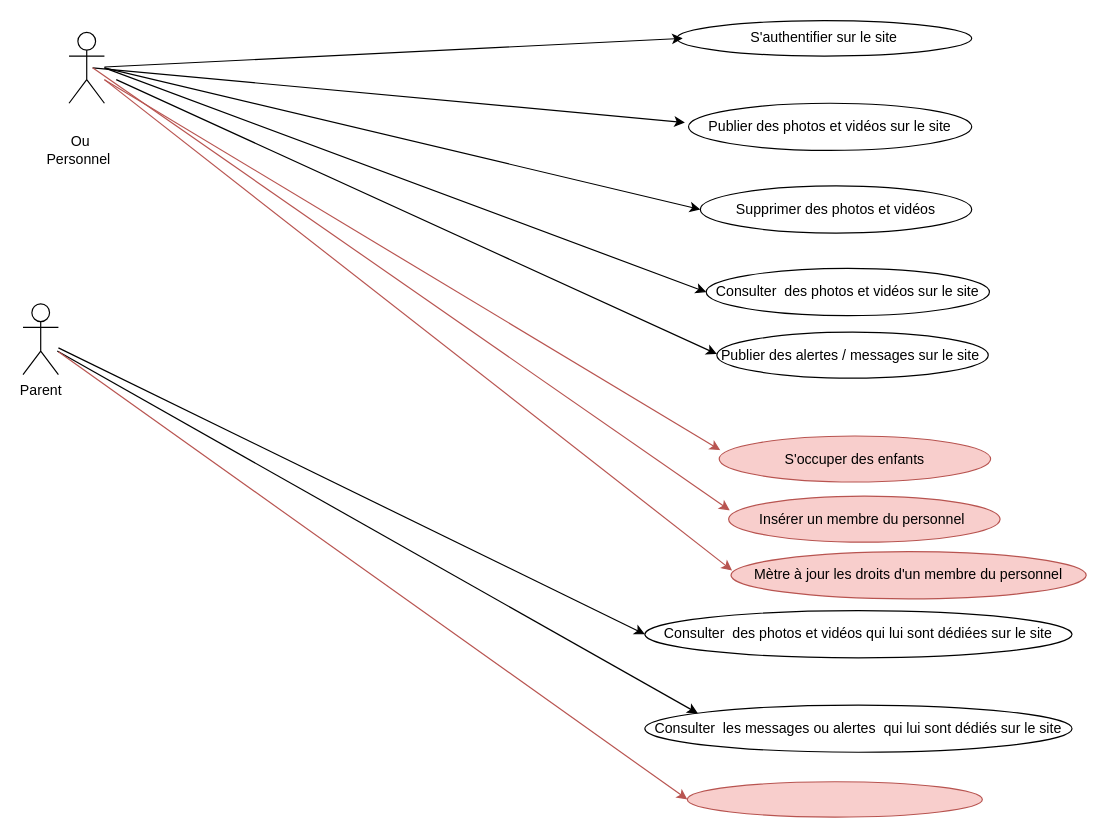
Some shapes in this 1107 by 838 pixel diagram are drawn without their labels. The box of each missing label's shape, as (x1, y1, x2, y2) in pixels:
Administrateur: (68, 31, 104, 103)
S'authentifier sur l'application: (686, 781, 982, 817)
